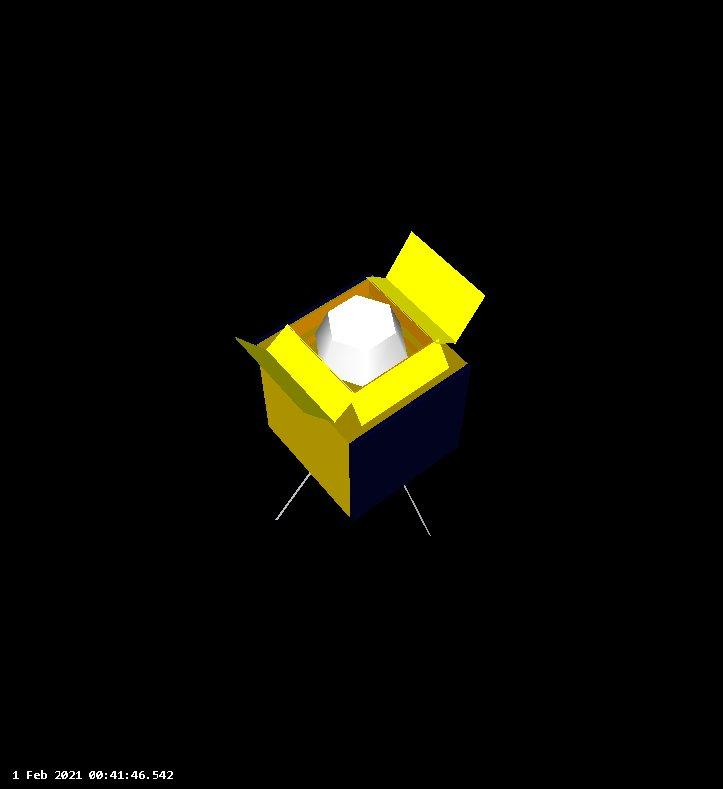antenna: (273, 471, 312, 524), (402, 483, 435, 538)
body: (258, 272, 477, 521)
solar: (346, 361, 474, 524)
